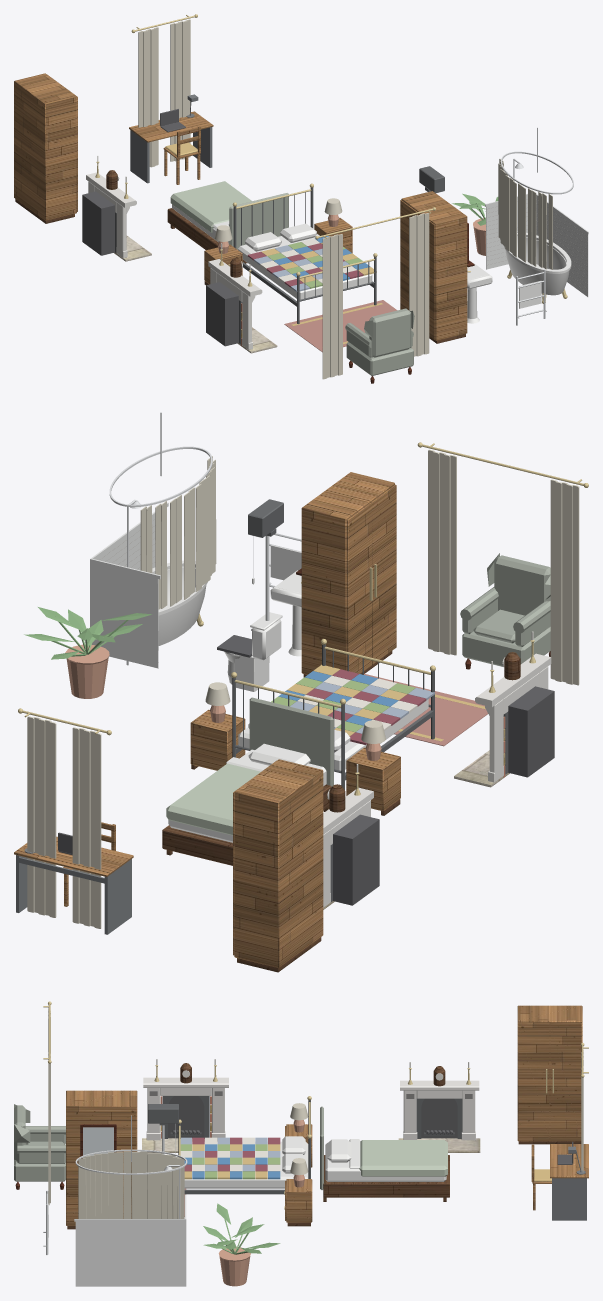
File: furn_1_r.glb
3 views of the same model, one above another, from view 1: azimuth 30°, elevation 25°; view 2: azimuth 150°, elevation 25°; view 3: azimuth 270°, elevation 25° (orthographic). The views are drawn at different scales.
Parts seen in each view (by area): view 1: furn_1_r_wood, furn_1_r_curtain, furn_1_r_fabric_g, furn_1_r_dark, furn_1_r_tile_w, furn_1_r_bed_w, furn_1_r_mantel, furn_1_r_porcelain, furn_1_r_iron, furn_1_r_bed_g, furn_1_r_dkwood, furn_1_r_rug (+11 smaller); view 2: furn_1_r_wood, furn_1_r_curtain, furn_1_r_fabric_g, furn_1_r_dark, furn_1_r_tile_w, furn_1_r_porcelain, furn_1_r_mantel, furn_1_r_bed_w, furn_1_r_iron, furn_1_r_dkwood, furn_1_r_bed_g, furn_1_r_steel_d (+12 smaller); view 3: furn_1_r_wood, furn_1_r_curtain, furn_1_r_tile_w, furn_1_r_mantel, furn_1_r_bed_w, furn_1_r_fabric_g, furn_1_r_bed_g, furn_1_r_dkwood, furn_1_r_dark, furn_1_r_iron, furn_1_r_steel_d, furn_1_r_pot (+11 smaller).
Part boxes in pixels (box(x1,y1,x2,y2)): furn_1_r_wood: box(14, 73, 467, 340); furn_1_r_curtain: box(138, 19, 552, 379); furn_1_r_fabric_g: box(229, 193, 414, 375); furn_1_r_dark: box(82, 109, 238, 346); furn_1_r_tile_w: box(485, 193, 588, 296); furn_1_r_bed_w: box(172, 204, 541, 308); furn_1_r_mantel: box(86, 172, 262, 349); furn_1_r_porcelain: box(467, 232, 571, 323); furn_1_r_iron: box(115, 166, 444, 344); furn_1_r_bed_g: box(170, 181, 251, 232); furn_1_r_dkwood: box(15, 170, 465, 343); furn_1_r_rug: box(284, 300, 397, 352); furn_1_r_wood: box(14, 472, 400, 967); furn_1_r_curtain: box(27, 449, 579, 928); furn_1_r_fabric_g: box(249, 553, 550, 786); furn_1_r_dark: box(58, 635, 554, 905); furn_1_r_tile_w: box(90, 502, 168, 668); furn_1_r_porcelain: box(152, 560, 301, 691); furn_1_r_mantel: box(323, 653, 551, 907); furn_1_r_bed_w: box(168, 545, 428, 842); furn_1_r_iron: box(232, 499, 508, 901); furn_1_r_dkwood: box(162, 651, 520, 972); furn_1_r_bed_g: box(166, 763, 260, 835); furn_1_r_steel_d: box(16, 848, 131, 934); furn_1_r_wood: box(66, 1005, 588, 1225); furn_1_r_curtain: box(48, 1009, 583, 1218); furn_1_r_tile_w: box(74, 1194, 186, 1286); furn_1_r_mantel: box(143, 1077, 479, 1140); furn_1_r_bed_w: box(48, 1136, 446, 1237); furn_1_r_fabric_g: box(14, 1104, 323, 1189); furn_1_r_bed_g: box(359, 1140, 447, 1176); furn_1_r_dkwood: box(67, 1063, 581, 1229); furn_1_r_dark: box(168, 1096, 573, 1164); furn_1_r_iron: box(148, 1096, 462, 1194); furn_1_r_steel_d: box(552, 1146, 586, 1220); furn_1_r_pot: box(218, 1120, 304, 1286).
Bounding box in the file's own units: 6.24 × 2.8 × 8.85.
30 materials, 5 textured.
